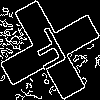F: (25, 25, 74, 80)
